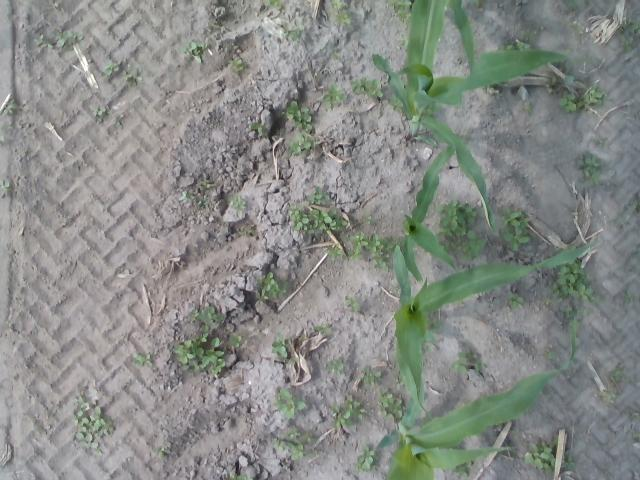Maize: (372, 0, 572, 233), (393, 241, 599, 414), (374, 316, 576, 480), (402, 135, 466, 280), (449, 0, 475, 74)
Weeds: (436, 198, 488, 260), (70, 393, 120, 457), (174, 332, 226, 376), (346, 232, 392, 274), (550, 265, 600, 301), (288, 205, 348, 234), (500, 204, 532, 252), (268, 434, 317, 462), (32, 27, 86, 52), (448, 345, 492, 375), (524, 437, 557, 476), (332, 393, 364, 431), (282, 99, 317, 133), (273, 384, 305, 419), (254, 270, 288, 300), (375, 388, 404, 423), (186, 306, 227, 330), (576, 151, 602, 187), (613, 18, 640, 52), (349, 75, 386, 99), (318, 80, 346, 110), (286, 134, 318, 160), (278, 18, 306, 46), (176, 39, 206, 65), (558, 88, 584, 116), (582, 82, 608, 109), (180, 190, 213, 211), (388, 0, 412, 27), (354, 446, 378, 473), (268, 330, 290, 359), (360, 363, 382, 390), (122, 64, 146, 88), (320, 354, 346, 376), (132, 350, 157, 372), (305, 186, 331, 206), (40, 400, 64, 420), (226, 194, 248, 214), (610, 362, 630, 384), (596, 388, 616, 410), (102, 60, 123, 80), (0, 97, 19, 116), (344, 294, 364, 312), (332, 11, 352, 28), (228, 56, 249, 72), (151, 444, 172, 460), (314, 323, 336, 337), (508, 291, 526, 308), (228, 330, 245, 348), (325, 241, 341, 260), (562, 449, 576, 470), (387, 96, 404, 113), (560, 304, 582, 316), (628, 400, 640, 422), (92, 106, 108, 122), (282, 426, 302, 438), (328, 0, 347, 12), (628, 196, 640, 215), (250, 122, 266, 136), (544, 348, 560, 362), (497, 43, 532, 49), (567, 0, 586, 11), (623, 288, 635, 305), (609, 218, 621, 235), (570, 21, 584, 35), (597, 137, 610, 152), (520, 28, 536, 40), (522, 102, 534, 118), (359, 214, 374, 226), (0, 120, 15, 132), (0, 180, 12, 195), (238, 228, 255, 238), (396, 34, 408, 48), (112, 112, 124, 126), (201, 180, 214, 192), (288, 354, 300, 367), (224, 475, 252, 480), (49, 0, 64, 9), (629, 430, 640, 442), (266, 0, 280, 9), (0, 134, 7, 148), (298, 334, 310, 342), (472, 0, 482, 9), (566, 45, 576, 53), (546, 88, 554, 94), (332, 52, 342, 56), (552, 76, 557, 82)
